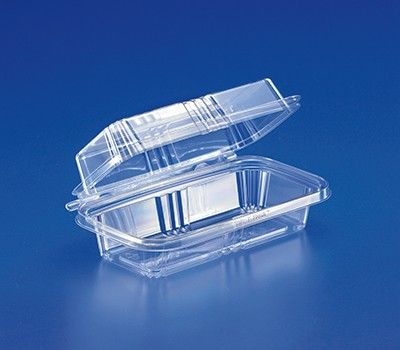PlasticBox: (60, 74, 333, 282)
